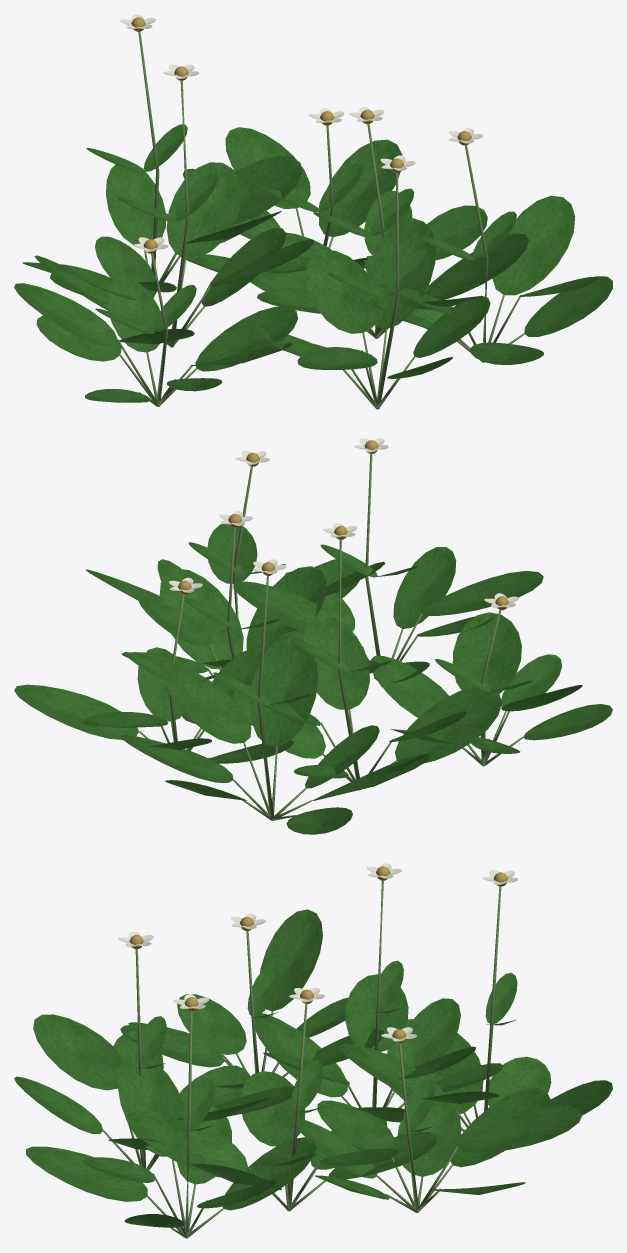
The model's file is Woodland_Forb_Flowering_01_LOD0.fbx.
The picture shows the model from 3 angles, top to bottom: view 1: azimuth 30°, elevation 25°; view 2: azimuth 150°, elevation 25°; view 3: azimuth 270°, elevation 25°; orthographic projection. The views are drawn at different scales.
Parts seen in each view (by area): view 1: Woodland_Forb_Flowering_01_LOD0_Mesh; view 2: Woodland_Forb_Flowering_01_LOD0_Mesh; view 3: Woodland_Forb_Flowering_01_LOD0_Mesh.
Part boxes in pixels (x1,y1,x2,y2): Woodland_Forb_Flowering_01_LOD0_Mesh: [14, 14, 612, 409]; Woodland_Forb_Flowering_01_LOD0_Mesh: [14, 438, 612, 834]; Woodland_Forb_Flowering_01_LOD0_Mesh: [14, 863, 612, 1238].
Bounding box in the file's own units: 67.76 × 33.44 × 66.2.
Materials: 4 (1 with a texture image).
